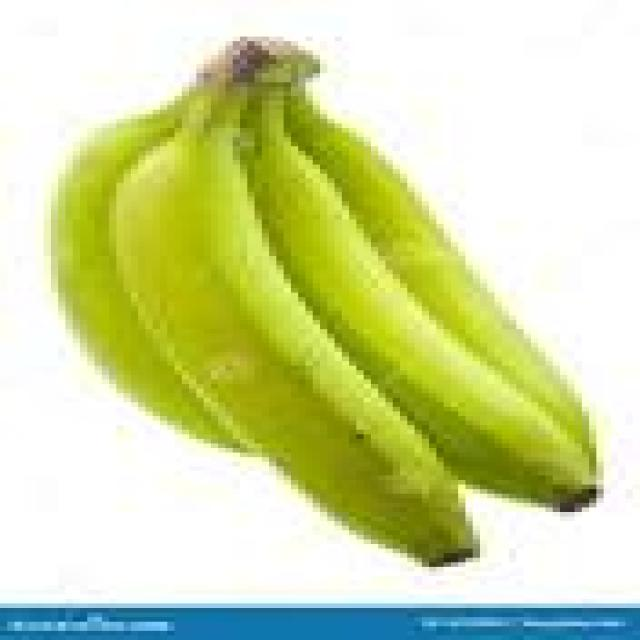banana: (117, 83, 472, 562), (248, 83, 596, 507), (284, 87, 596, 461), (51, 96, 239, 447)
